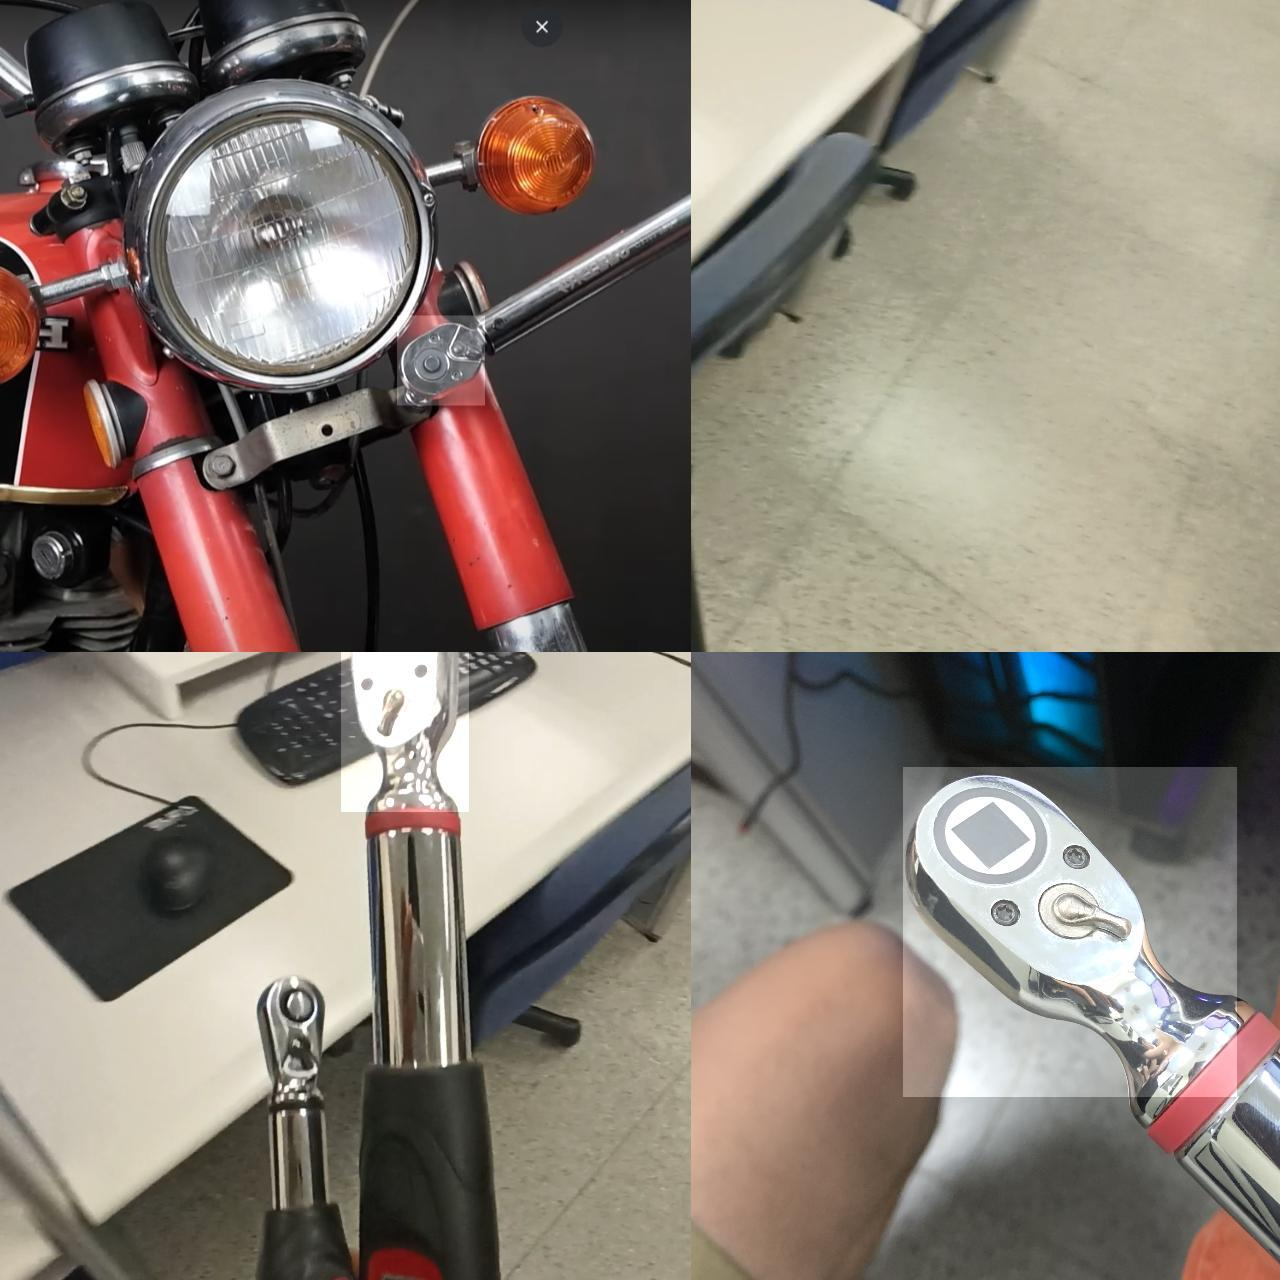Tool: (903, 767, 1237, 1097), (341, 652, 469, 812), (243, 969, 338, 1096), (397, 315, 485, 406)
